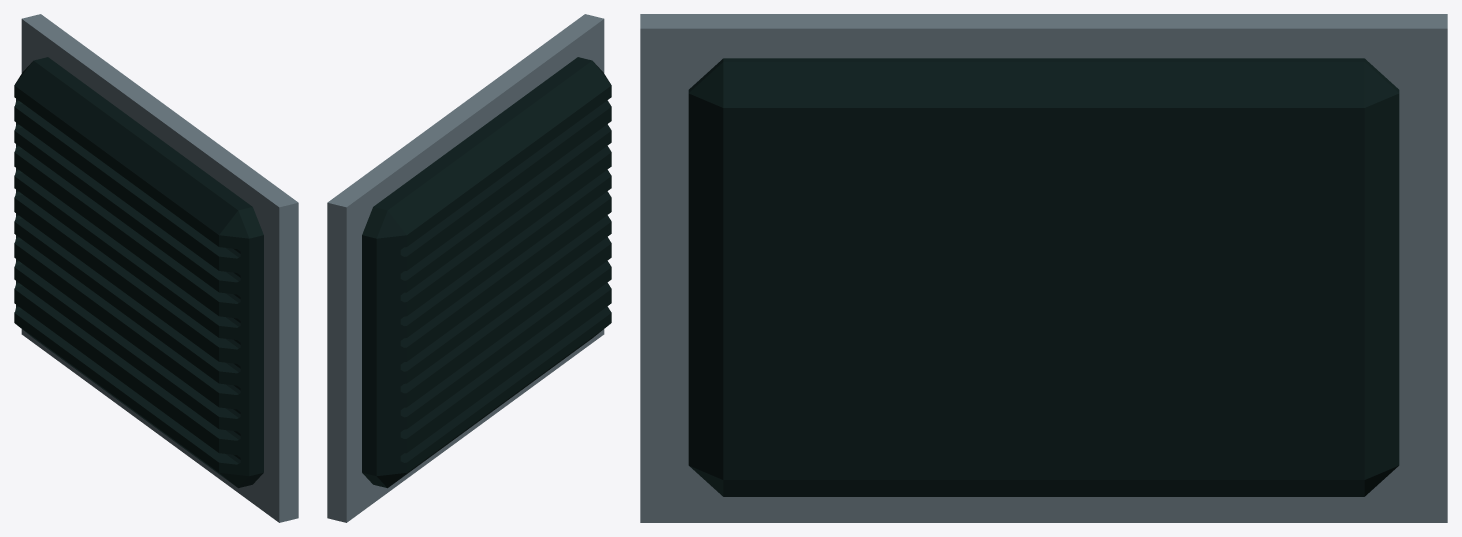
The model's file is plaka 20.fbx.
3 views of the same model, side by side, from view 1: azimuth 30°, elevation 25°; view 2: azimuth 150°, elevation 25°; view 3: azimuth 270°, elevation 25° (orthographic). The views are drawn at different scales.
Parts seen in each view (by area): view 1: polySurface1988; view 2: polySurface1988; view 3: polySurface1988.
Part boxes in pixels (x1,y1,x2,y2): polySurface1988: (14, 14, 298, 522); polySurface1988: (327, 14, 611, 522); polySurface1988: (640, 14, 1447, 522).
Bounding box in the file's own units: 35.46 × 139 × 206.
